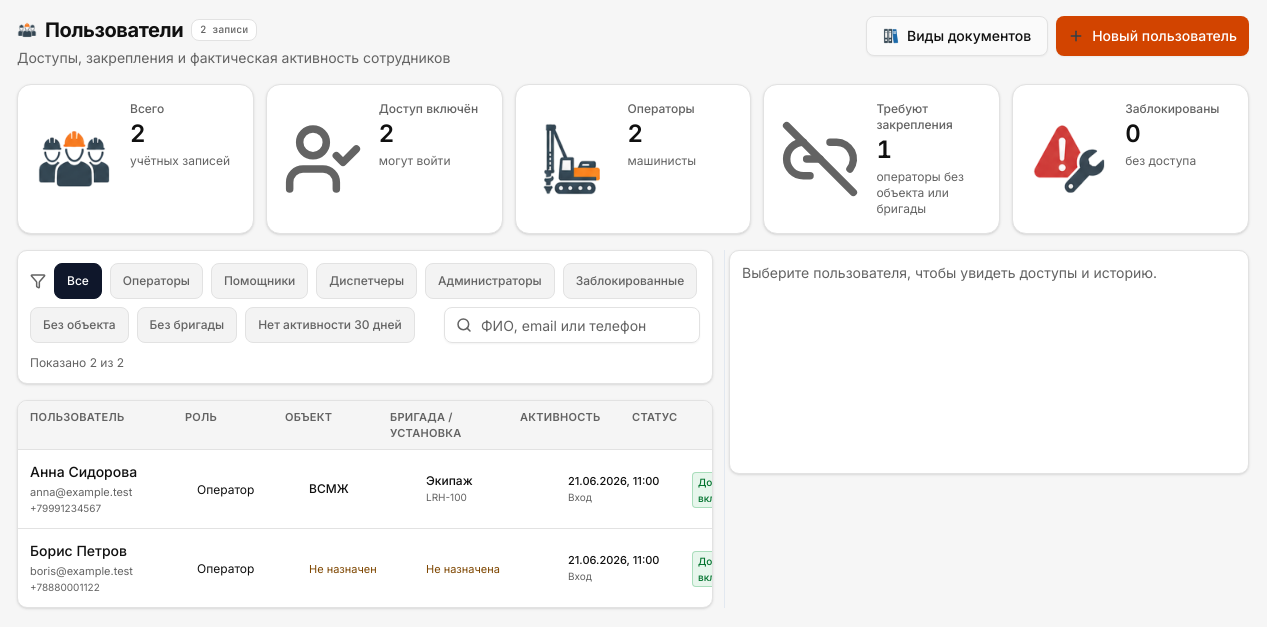
it: AdminUsers › не выбирает сотрудника молча — карточка пуста до клика (R136 №18)
Expected: the tab "Обзор" is not shown
Expected: the text "Выберите пользователя, чтобы увидеть доступы и историю." is shown, [729, 250, 1249, 474]
Click the text "Анна Сидорова".
click(84, 472)  # box [30, 463, 137, 480]
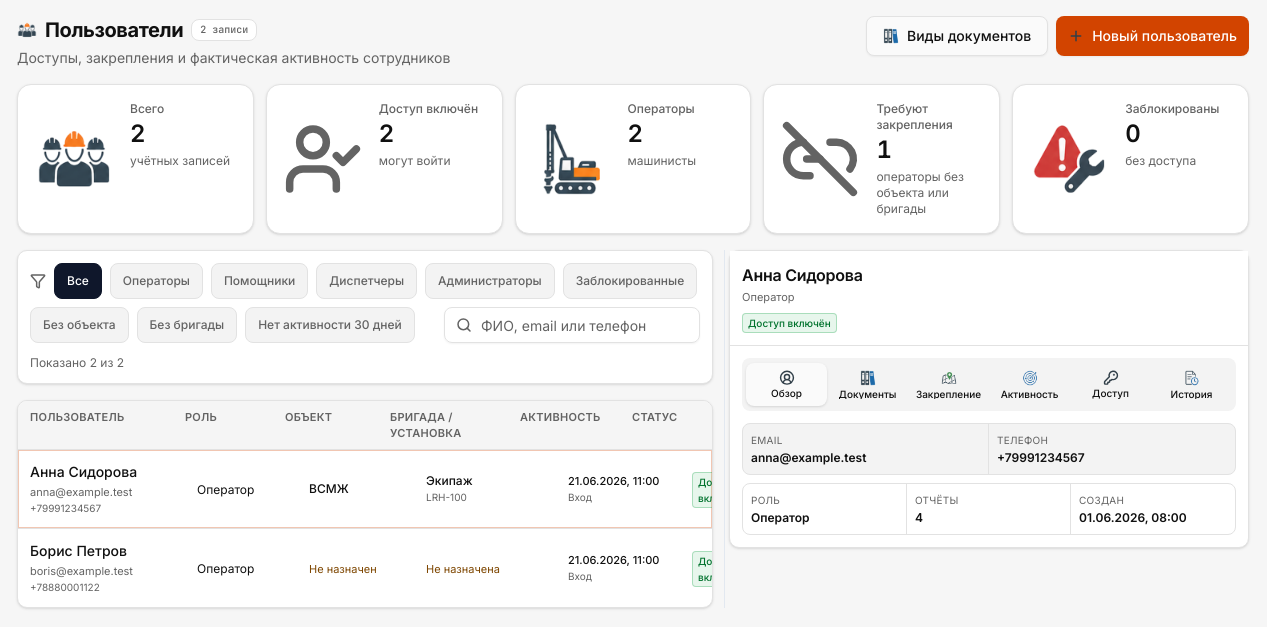
Expected: the tab "Обзор" is shown, [746, 362, 827, 406]
